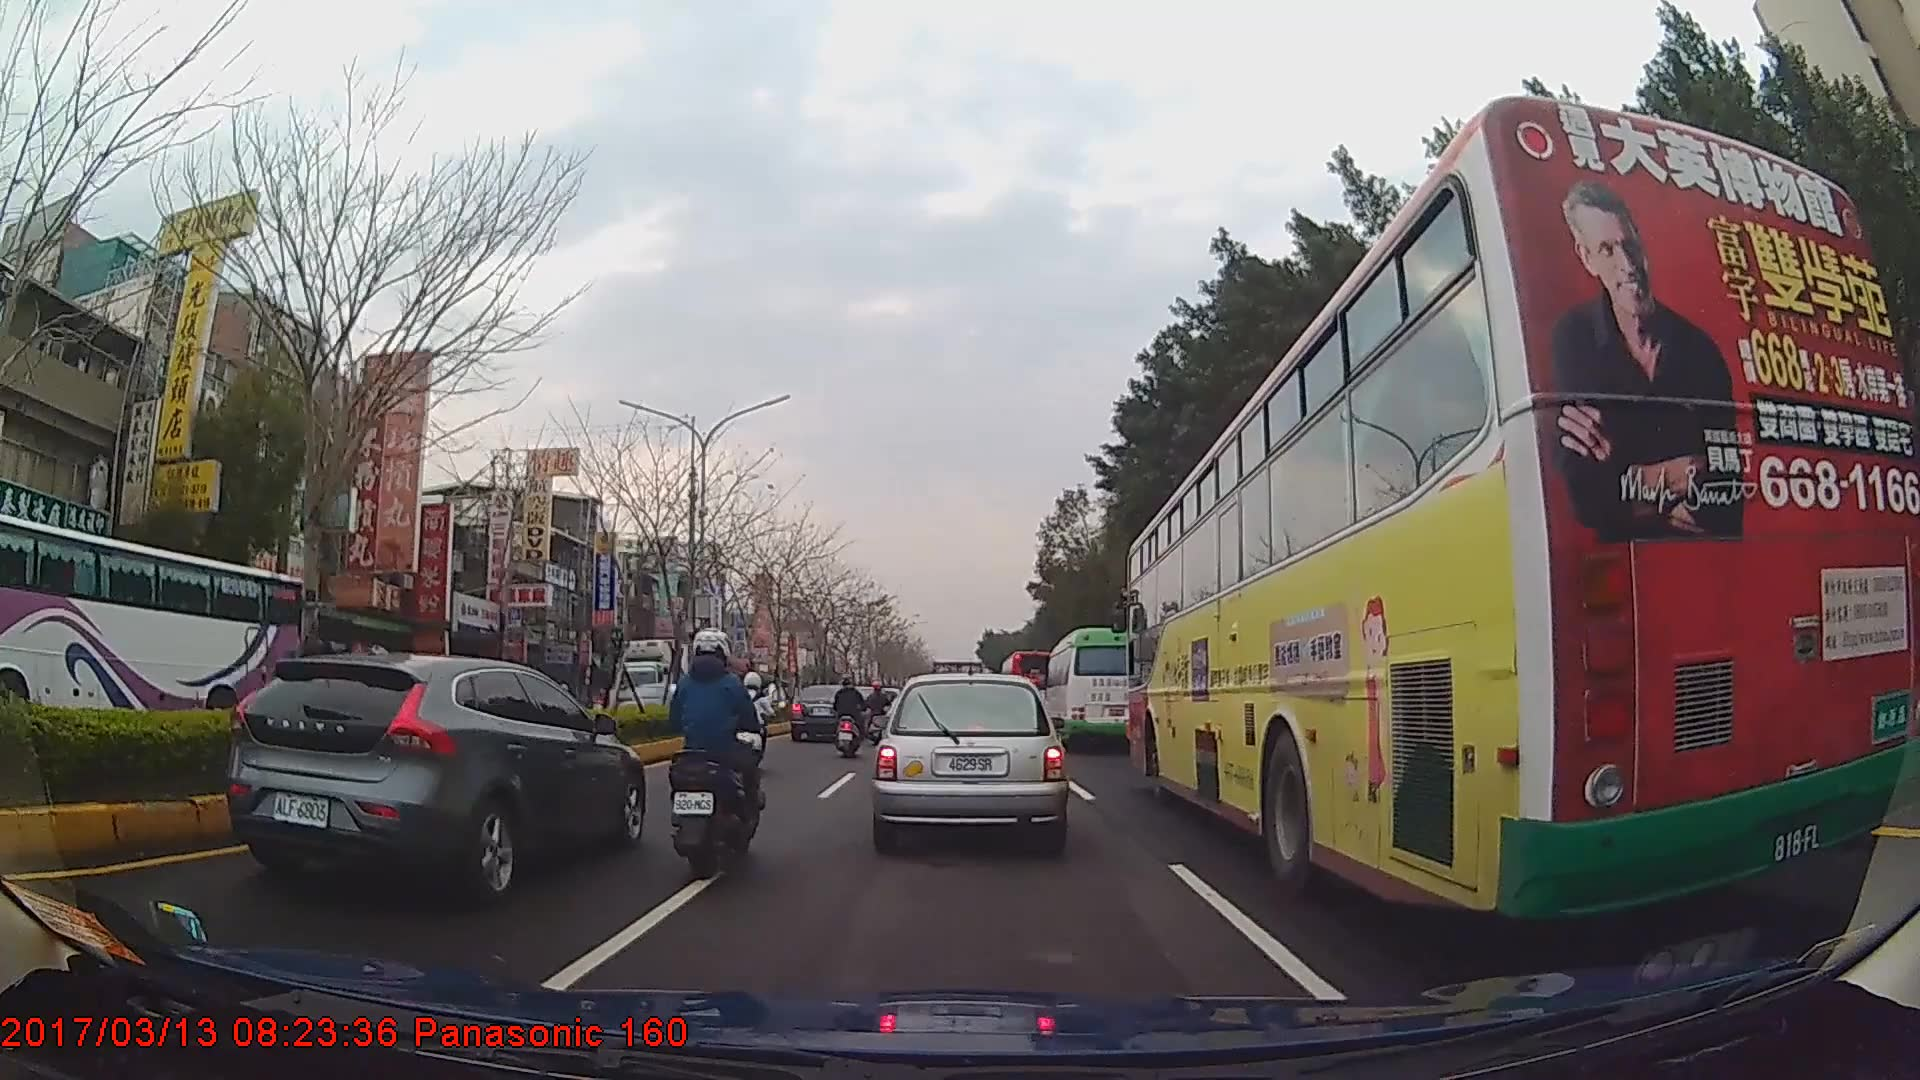rider: (668, 628, 764, 877), (726, 669, 773, 778), (833, 673, 870, 754), (864, 680, 891, 742)
vehicle: (1126, 90, 1920, 927), (226, 650, 646, 903), (0, 513, 316, 761), (874, 669, 1069, 849), (1045, 626, 1160, 751), (790, 682, 868, 742), (998, 645, 1056, 721)
